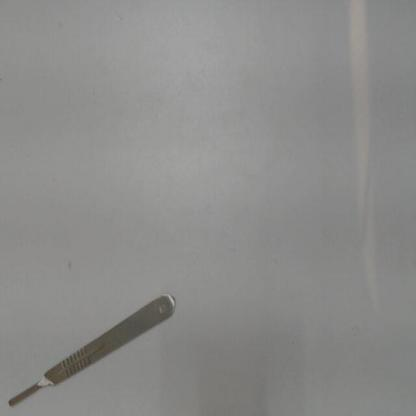No.4 BP Handle: (4, 287, 180, 408)
